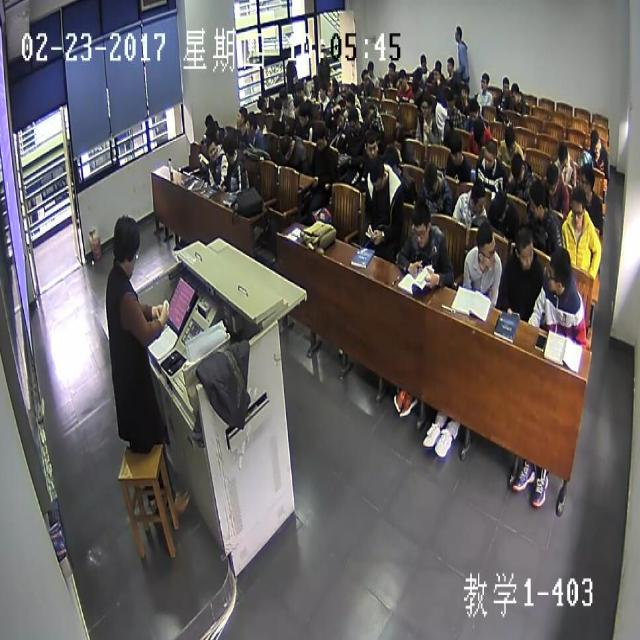person: (110, 213, 140, 276), (545, 249, 570, 294), (476, 220, 496, 264), (517, 226, 533, 272), (491, 186, 508, 225), (528, 184, 546, 219), (413, 206, 428, 247), (570, 187, 584, 229), (370, 155, 386, 191), (468, 178, 484, 211), (422, 162, 436, 195), (363, 130, 378, 158), (484, 138, 496, 170), (580, 166, 594, 193), (510, 156, 524, 182), (448, 136, 462, 161), (546, 161, 557, 192), (222, 133, 234, 161), (315, 128, 326, 155), (279, 135, 292, 157), (245, 113, 258, 134), (235, 105, 247, 127), (344, 92, 356, 114), (590, 126, 599, 155), (207, 136, 217, 162), (557, 140, 567, 166), (504, 127, 516, 148), (392, 129, 403, 151), (347, 108, 357, 131), (420, 95, 430, 118), (387, 153, 399, 172), (468, 96, 477, 121), (298, 104, 308, 126), (474, 120, 484, 141), (398, 69, 407, 92), (334, 108, 344, 127), (280, 85, 288, 108), (360, 68, 369, 88), (445, 90, 454, 110), (480, 70, 489, 90), (359, 104, 370, 120), (318, 82, 327, 100), (460, 82, 469, 100), (510, 83, 519, 101), (387, 61, 395, 80), (256, 94, 266, 109), (412, 69, 419, 90), (310, 74, 318, 92), (366, 58, 375, 74), (454, 24, 462, 42), (502, 74, 509, 94), (434, 58, 442, 75), (273, 101, 281, 117), (298, 76, 306, 92), (319, 43, 326, 59), (205, 113, 212, 128), (420, 52, 426, 69), (329, 77, 335, 94), (447, 56, 453, 72)
